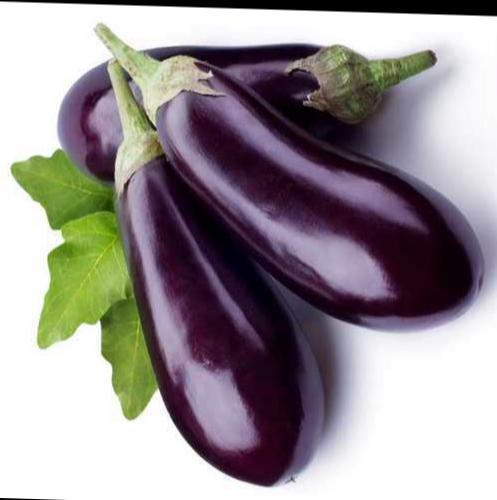eggplant: (41, 26, 464, 478)
